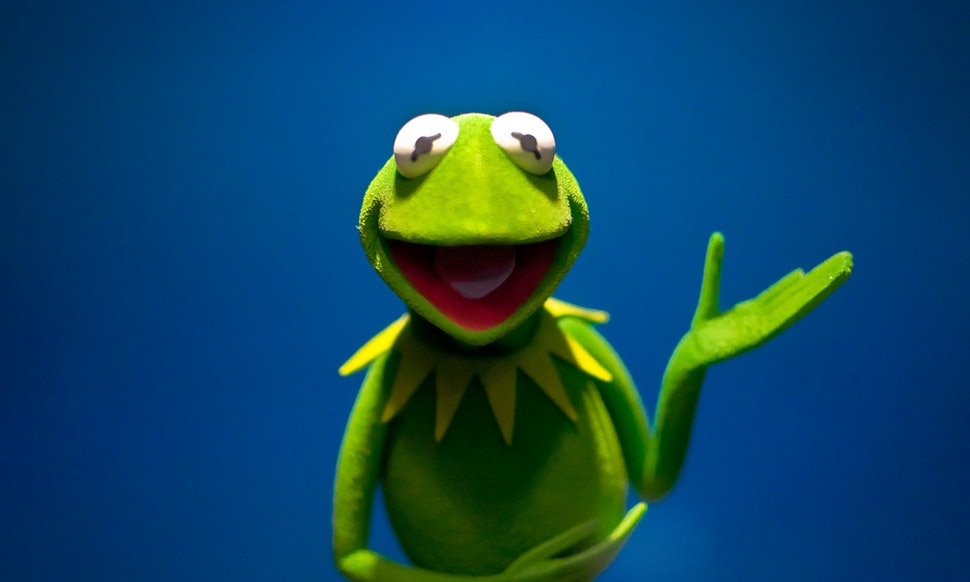kermit: (355, 108, 594, 357)
